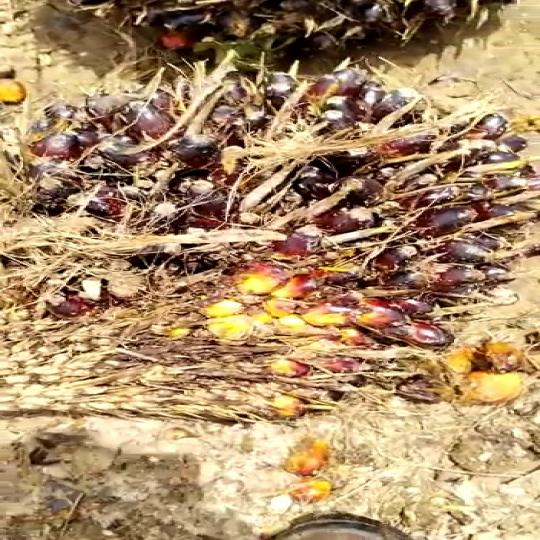mentah: (4, 65, 540, 375)
